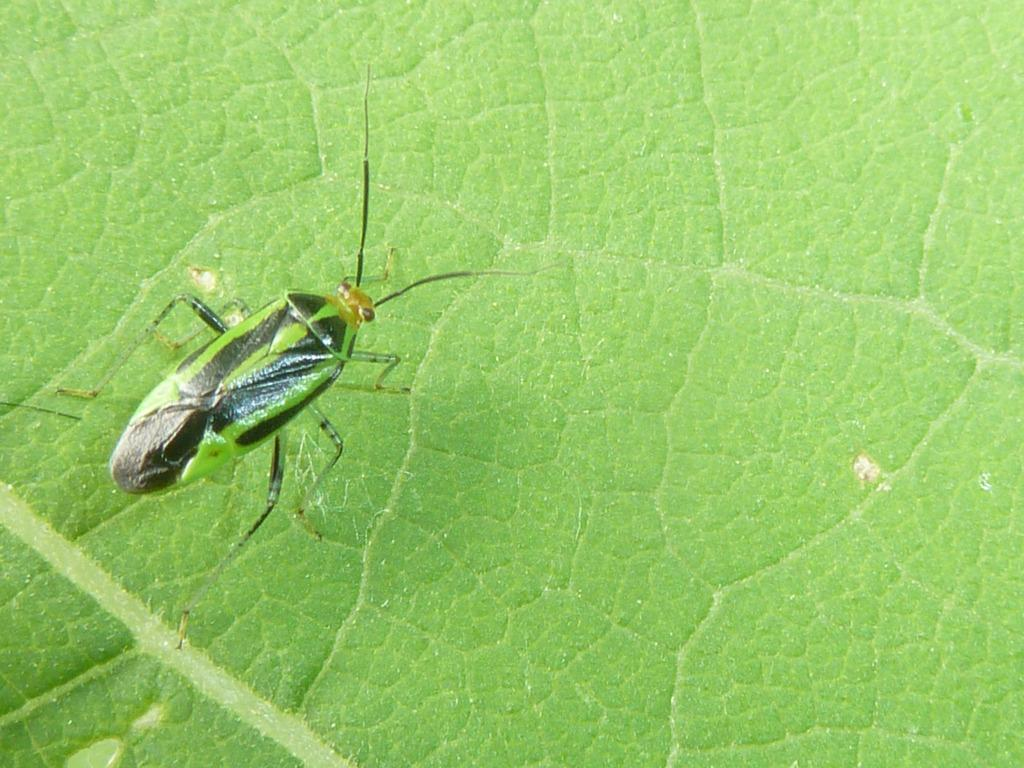plant_bugs: (0, 39, 620, 680)
